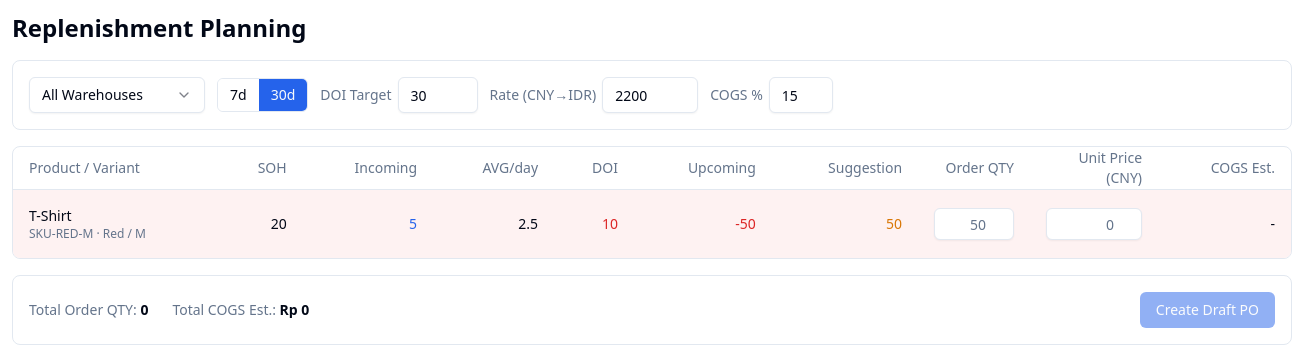
Test: button becomes enabled after setting order qty
Type "10" into the number field with placeholder "50". click: (974, 224)
box: x1=934 y1=208 x2=1014 y2=240
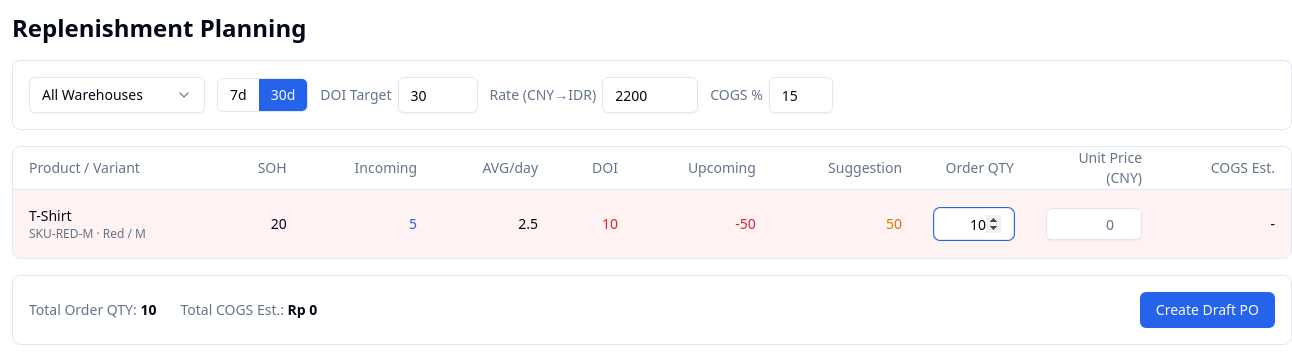
Result: the button "Create Draft PO" is enabled at x1=1140 y1=292 x2=1275 y2=328
